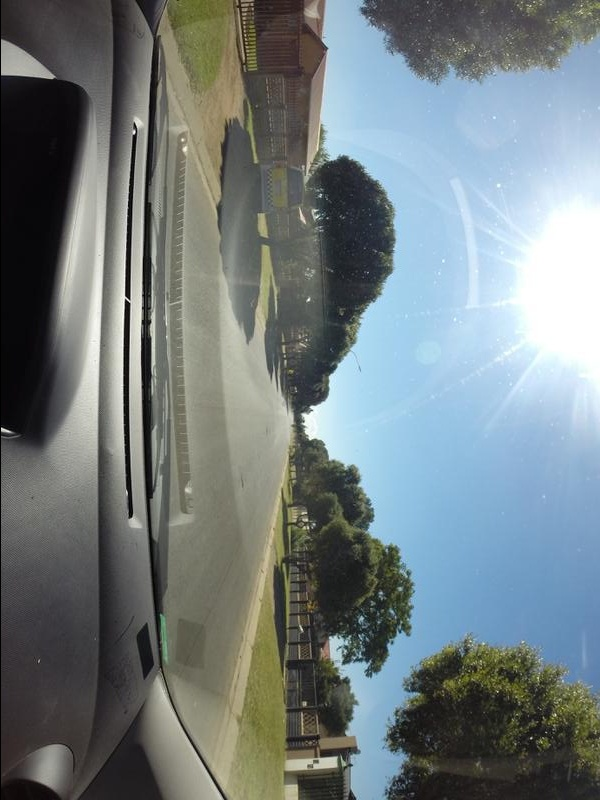pothole: (233, 477, 250, 488)
